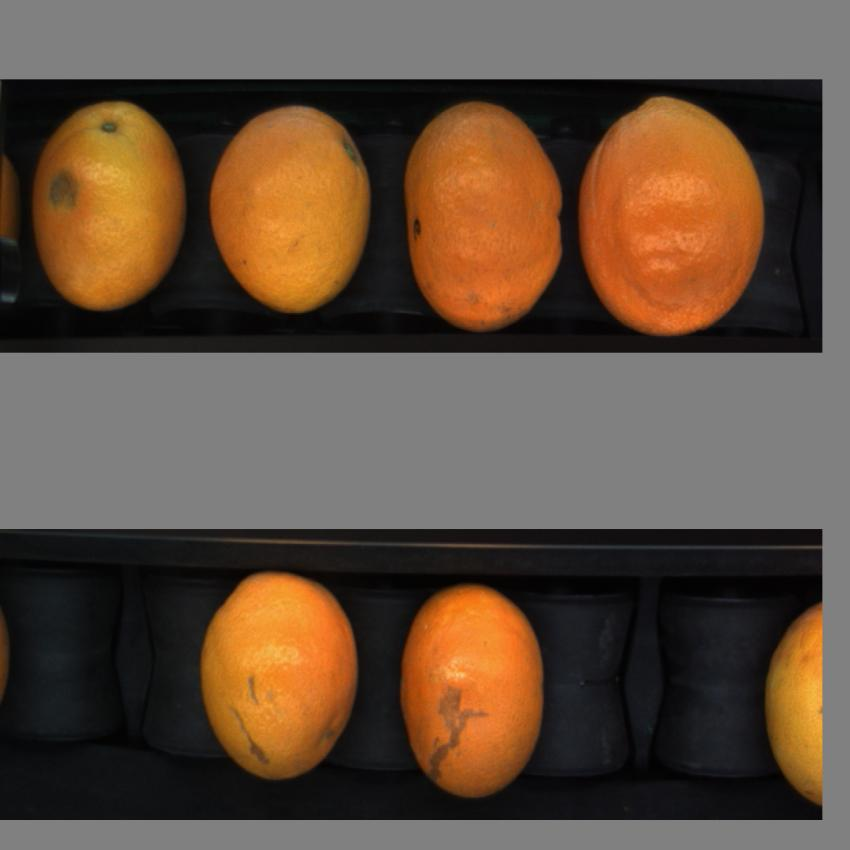Buen estado: (570, 91, 779, 344), (396, 96, 570, 341), (201, 95, 381, 324), (192, 562, 370, 792), (26, 92, 190, 315), (396, 577, 550, 804), (753, 592, 822, 815)
